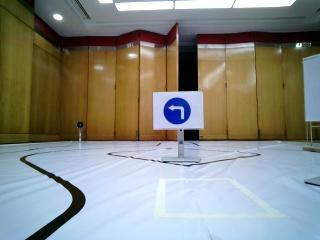left: (154, 97, 199, 128)
